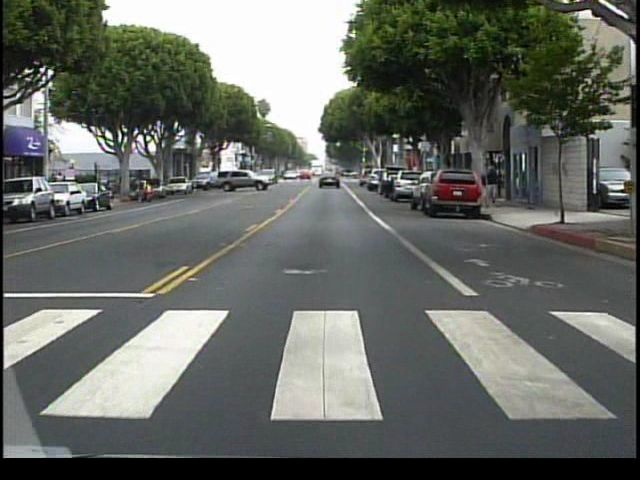person: (481, 168, 501, 211), (136, 177, 154, 209)
